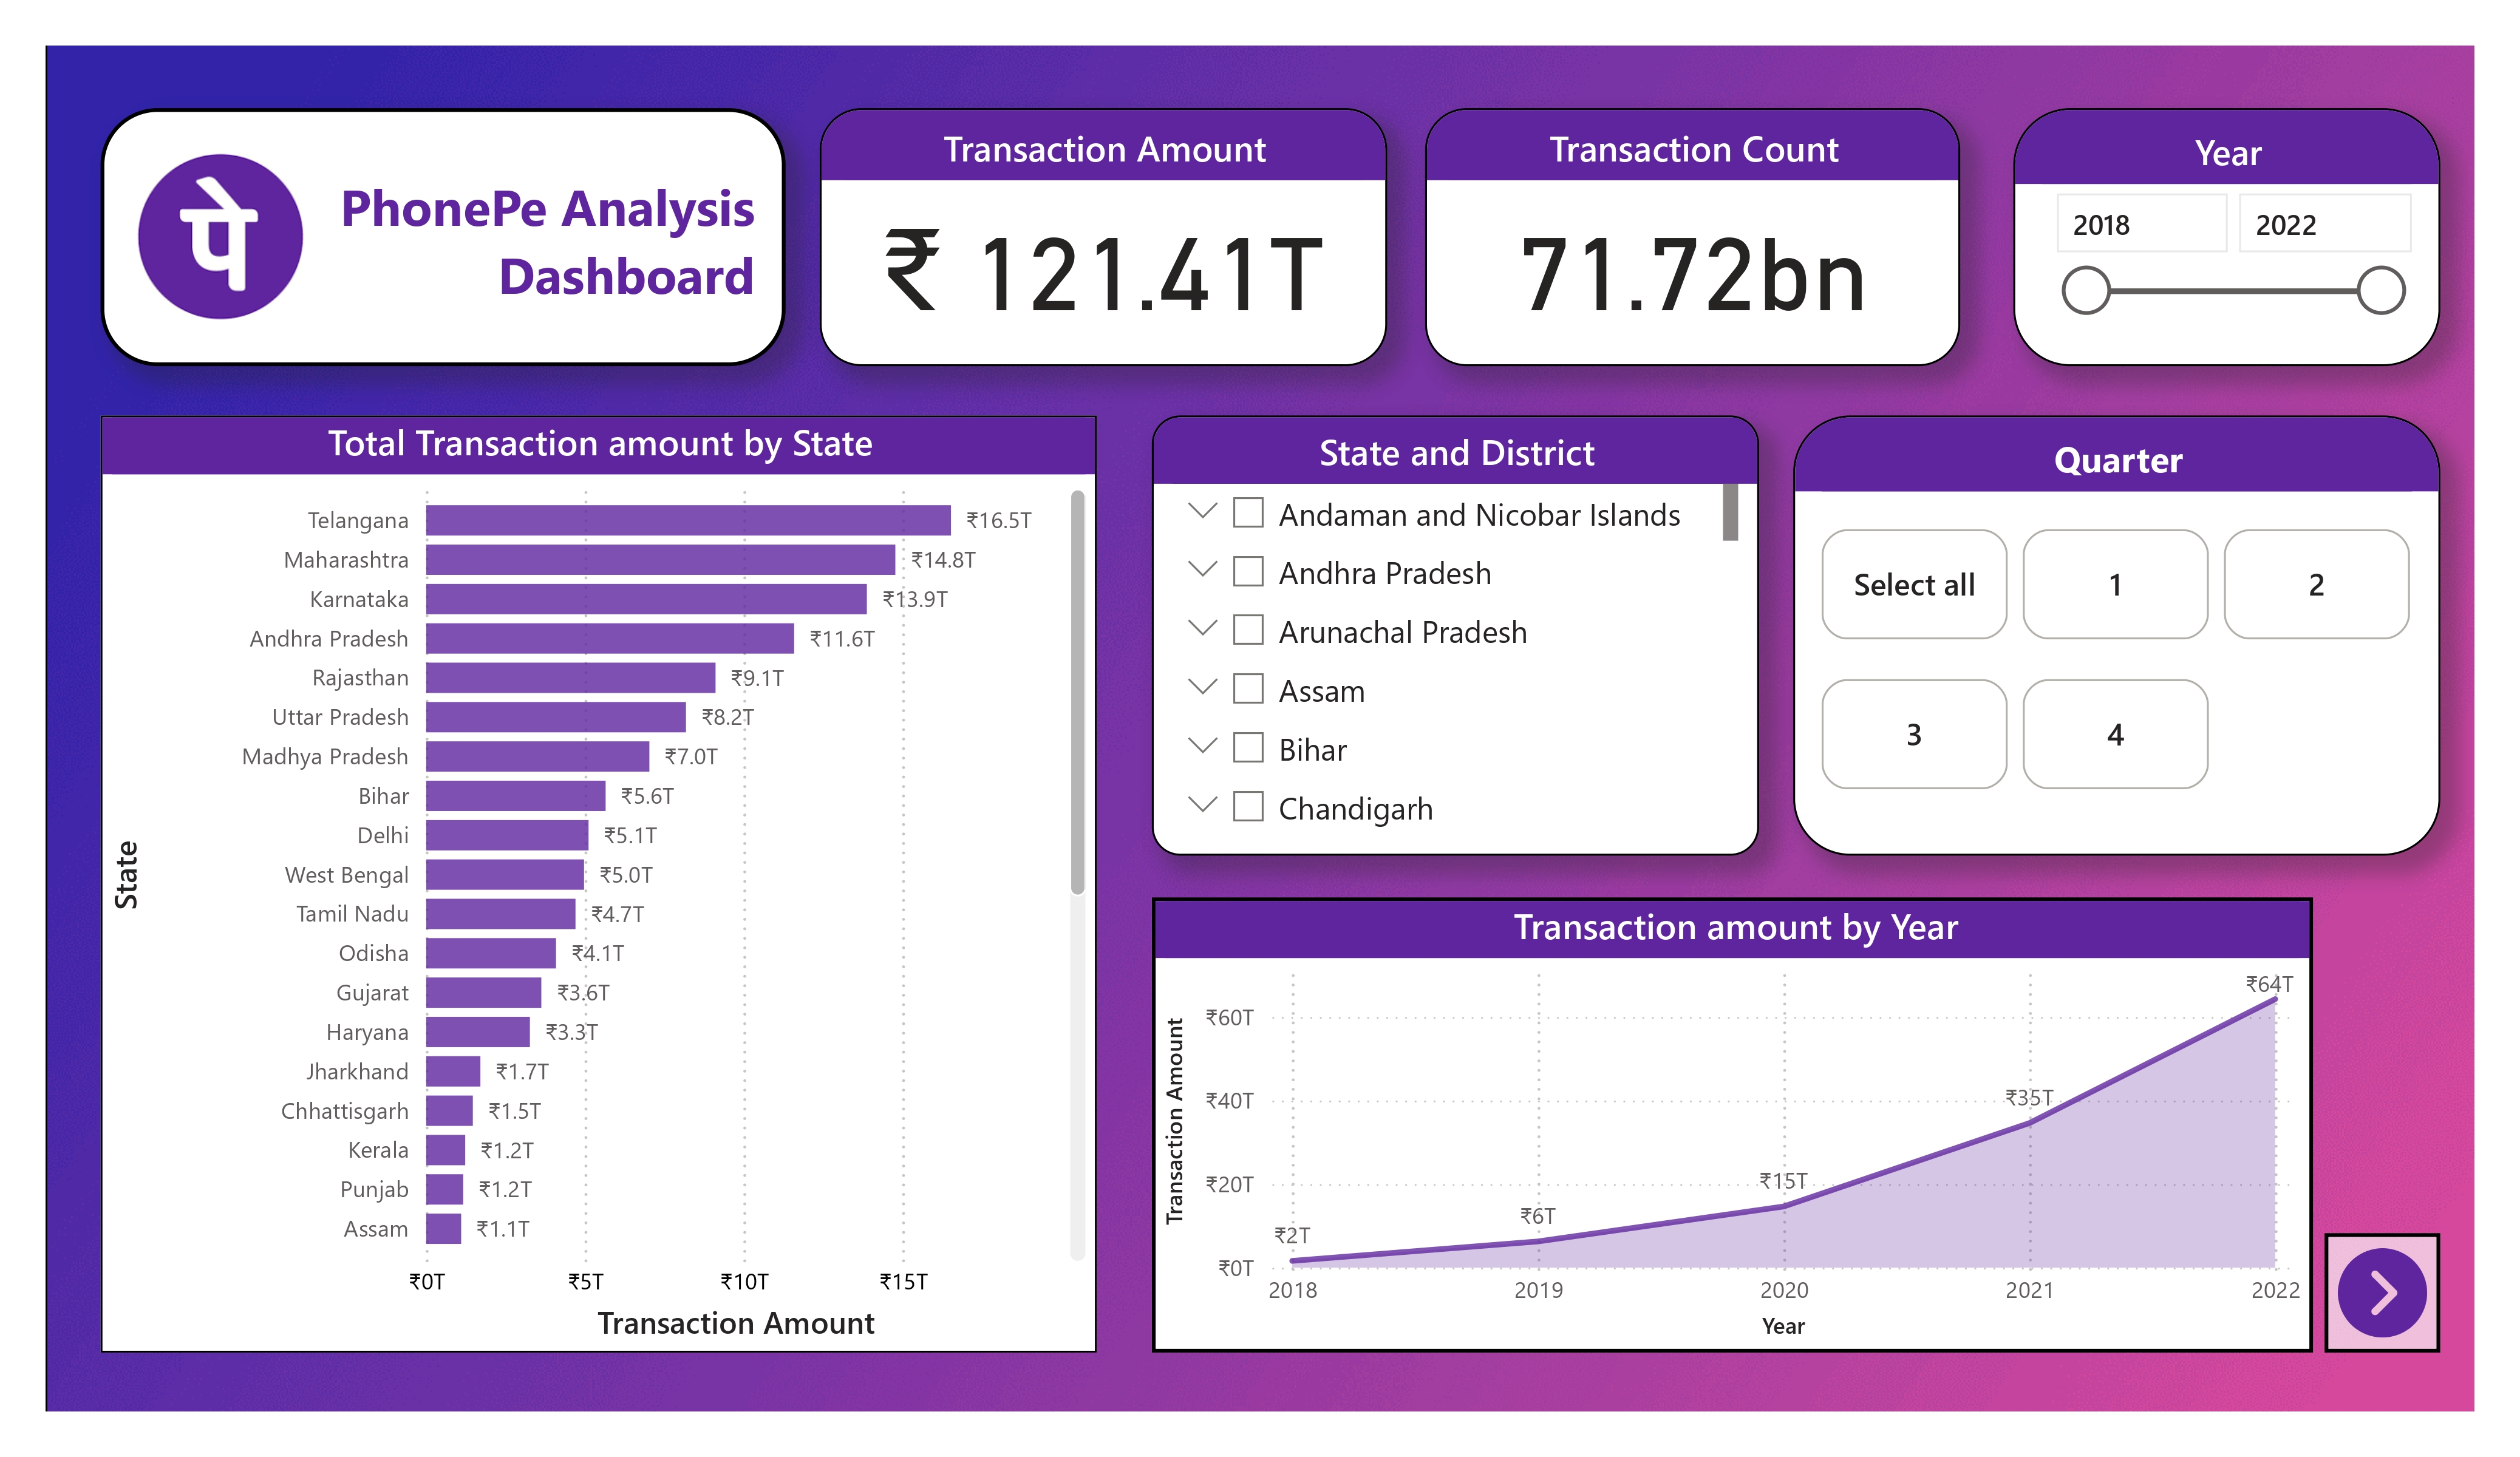

The dashboard page shown, as its layout file describes it:
{"tool":"powerbi","page":{"name":"Page 1","canvas":[1280,720],"ordinal":0},"visuals":[{"type":"textbox","box":[28.8,32.9,360.9,135.8],"z":0,"group":"g1"},{"type":"image","box":[41.4,46.7,101.5,107],"z":1000,"group":"g1"},{"type":"advancedSlicerVisual","fields":{"Values":["agg_trans.Quarter"]},"box":[920.8,194.9,341.7,231.9],"z":1000},{"type":"barChart","title":"Total Transaction amount by State","fields":{"Category":["agg_trans.State"],"Y":["Sum(agg_trans.Transaction_amount)"]},"box":[28.8,194.9,525.6,494],"z":2000},{"type":"card","title":"Transaction Amount","fields":{"Values":["Sum(agg_trans.Transaction_amount)"]},"box":[407.5,32.9,299.1,135.8],"z":3000},{"type":"card","title":"Transaction Count","fields":{"Values":["Sum(agg_trans.Transaction_count)"]},"box":[727.3,32.9,281.3,135.8],"z":4000},{"type":"slicer","title":"State and District","fields":{"Values":["map_trans.State","map_trans.District"]},"box":[583.2,194.9,319.7,231.9],"z":6000},{"type":"slicer","title":"Year","fields":{"Values":["agg_trans.Year"]},"box":[1037.4,32.9,225,135.8],"z":8000},{"type":"lineChart","title":"Transaction amount by Year","fields":{"Category":["agg_trans.Year"],"Y":["Sum(agg_trans.Transaction_amount)"]},"box":[583.2,448.7,612,240.1],"z":9000},{"type":"group","id":"g1","title":"Group 1","box":[28.8,32.9,360.9,135.8],"z":10000},{"type":"image","box":[1200.7,625.7,61.7,63.1],"z":11001}]}

Visuals, with their boxes on the page's 1280x720 design canvas (x1, y1, x2, y2). These are canvas units, not pixel positions in the 2520x1457 screenshot, which may show the page scaled, cropped or inside an application window:
textbox: <box>29,33,390,169</box>
image: <box>41,47,143,154</box>
advancedSlicerVisual - agg_trans.Quarter: <box>921,195,1262,427</box>
"Total Transaction amount by State" barChart: <box>29,195,554,689</box>
"Transaction Amount" card: <box>408,33,707,169</box>
"Transaction Count" card: <box>727,33,1009,169</box>
"State and District" slicer: <box>583,195,903,427</box>
"Year" slicer: <box>1037,33,1262,169</box>
"Transaction amount by Year" lineChart: <box>583,449,1195,689</box>
"Group 1" group: <box>29,33,390,169</box>
image: <box>1201,626,1262,689</box>
